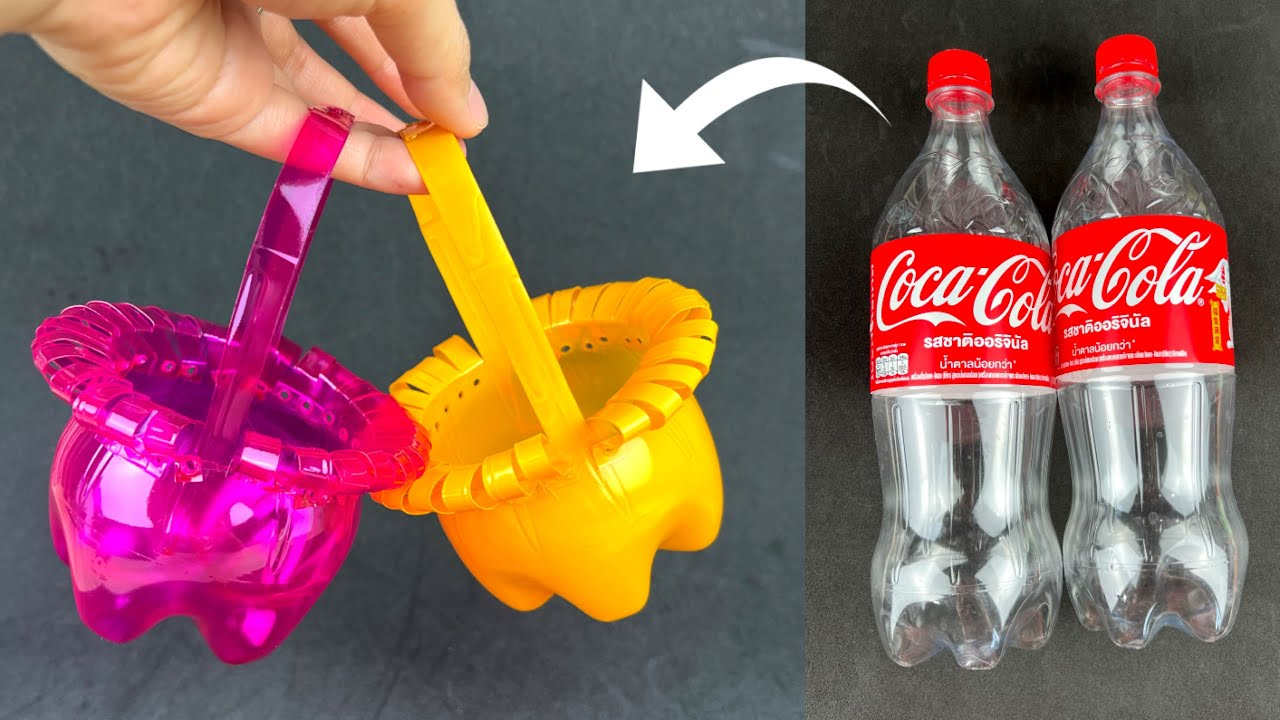plastic_bottle: (859, 35, 1061, 676), (1050, 27, 1251, 658)
